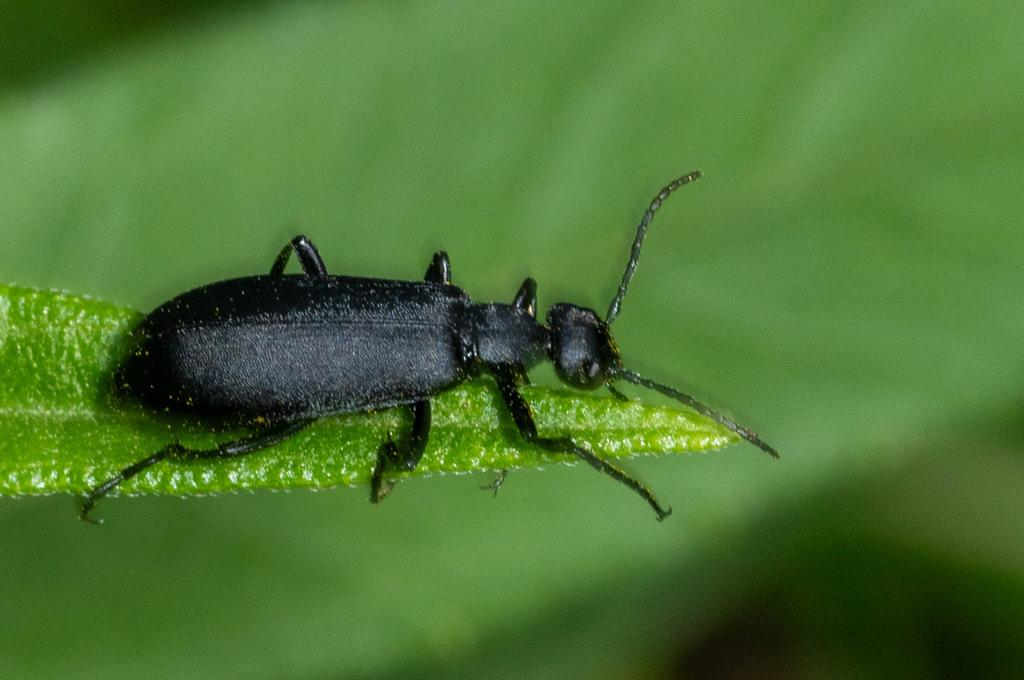blister_beetle: (3, 101, 885, 607)
